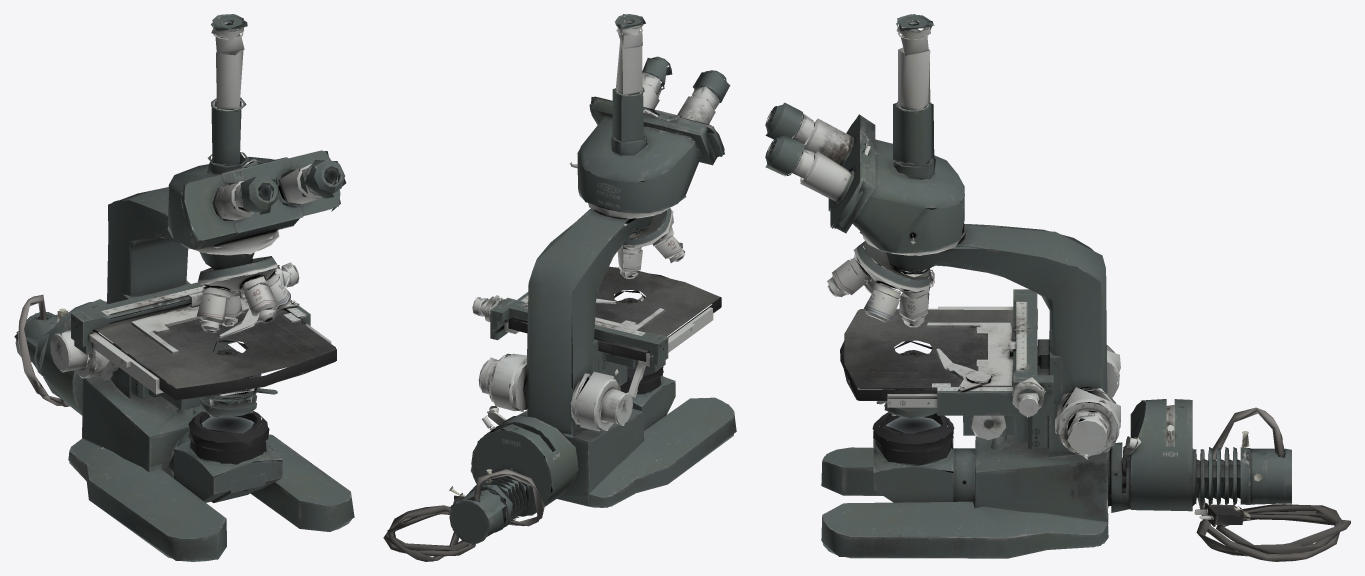
Rendered from Microscope.gltf.
3 views of the same model, side by side, from view 1: azimuth 30°, elevation 25°; view 2: azimuth 150°, elevation 25°; view 3: azimuth 270°, elevation 25° (orthographic). The views are drawn at different scales.
Parts seen in each view (by area): view 1: Microscope; view 2: Microscope; view 3: Microscope.
Boxes of the visible parts, x1=… form: Microscope: x1=14, y1=14, x2=354, y2=561; Microscope: x1=383, y1=14, x2=736, y2=561; Microscope: x1=765, y1=14, x2=1350, y2=561.
Size of what is drawn, in the model's own units: 0.2145 by 0.4622 by 0.4966.
1 material, 1 textured.
